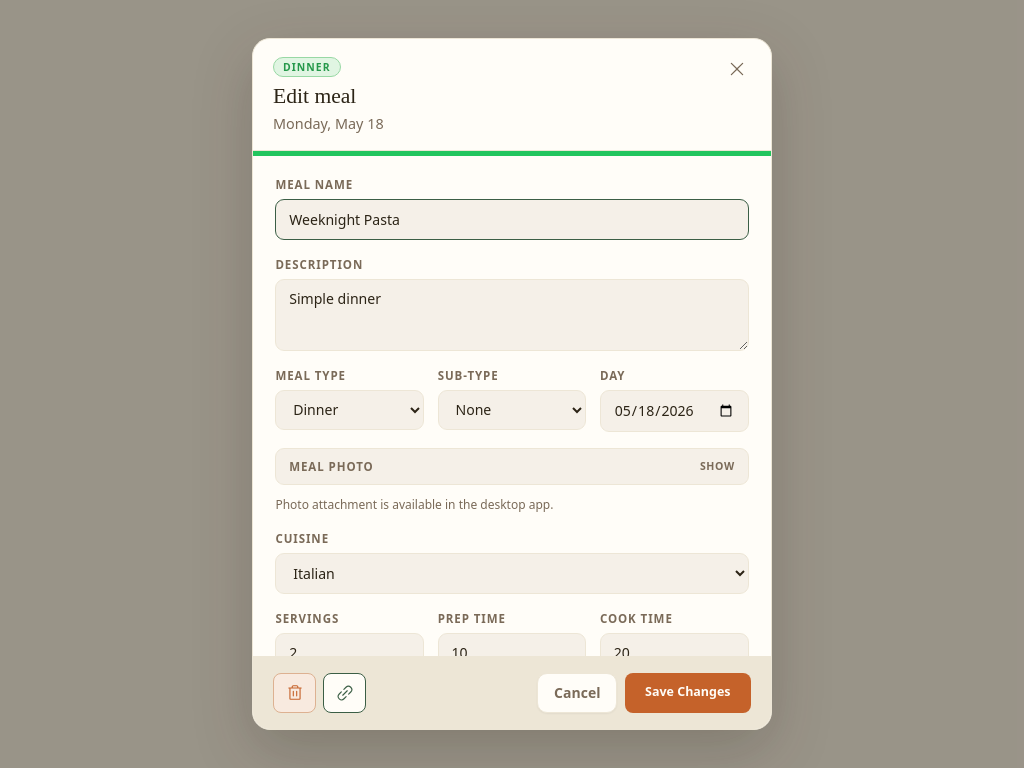
Test: EditModal › keeps the meal photo section collapsed by default
The width and height of the screenshot is (1024, 768).
Click the button "Meal Photo Show".
click(331, 467)  # box [275,448,749,485]
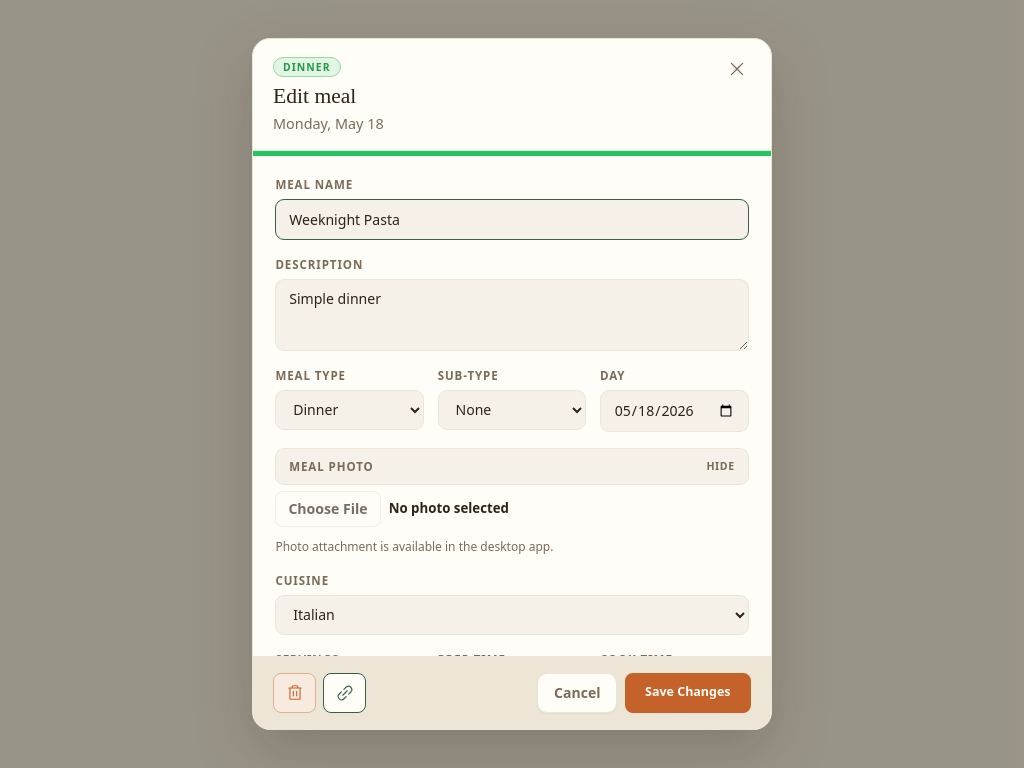
Result: the button "Meal Photo Hide" is expanded at [275,448,749,485]
Result: the element named "Meal Photo" is shown at [275,491,509,527]
